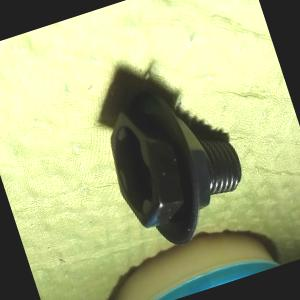parafuso: (91, 64, 260, 258)
